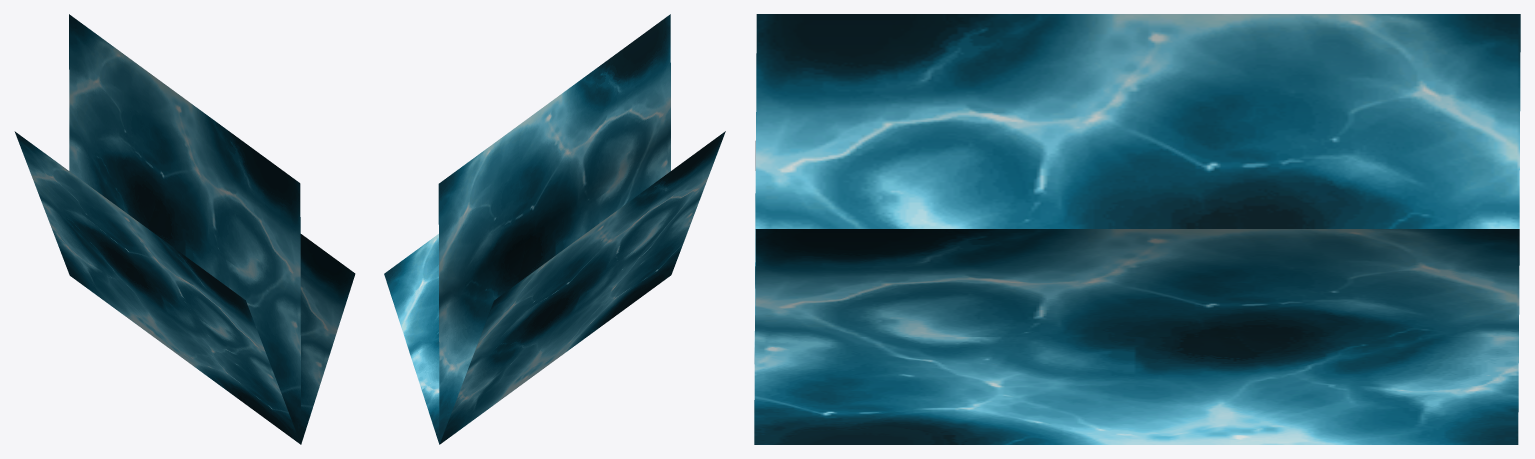
Rendered from zhexian02.FBX.
3 renders of one model, left to right at view 1: azimuth 30°, elevation 25°; view 2: azimuth 150°, elevation 25°; view 3: azimuth 270°, elevation 25°, orthographic. The views are drawn at different scales.
Visible parts, largest first — view 1: Plane002; view 2: Plane002; view 3: Plane002.
Part boxes in pixels (x1,y1,x2,y2): Plane002: (14,14,355,444); Plane002: (384,14,725,444); Plane002: (754,14,1520,444).
Size of the model in its own units: 104 by 237 by 382.
1 material, 1 textured.
